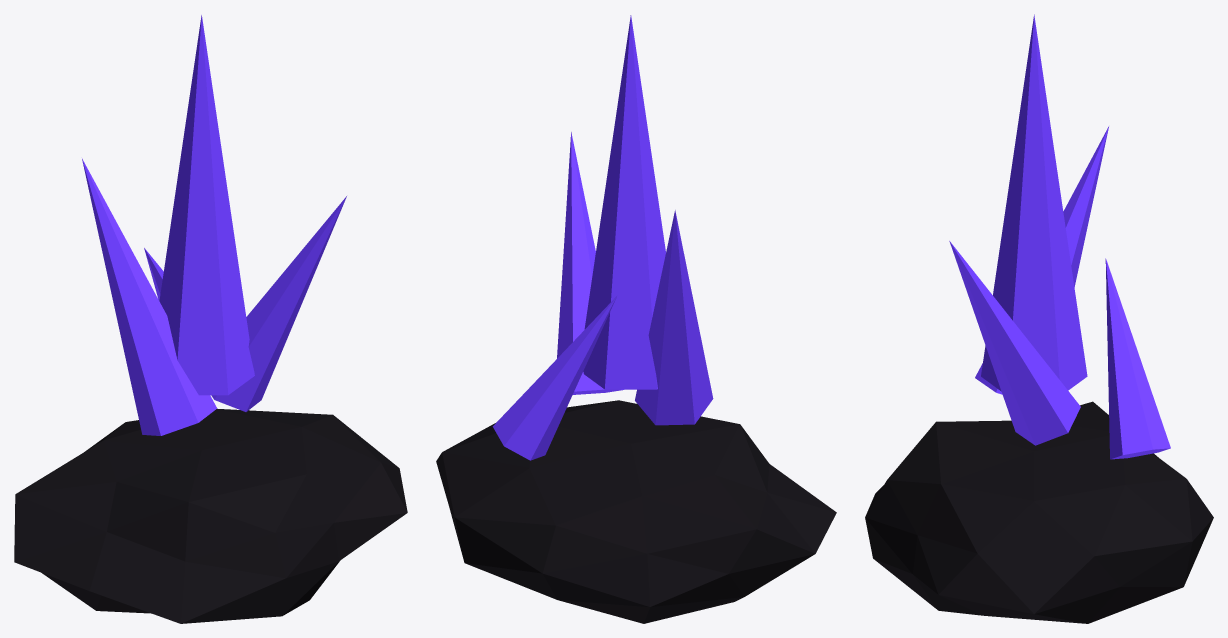
Rendered from crystal-cluster.glb.
The picture shows the model from 3 angles, left to right: view 1: azimuth 30°, elevation 25°; view 2: azimuth 150°, elevation 25°; view 3: azimuth 270°, elevation 25°; orthographic projection.
Visible parts, largest first — view 1: Base Rock, Crystal 1, Crystal 3, Crystal 2; view 2: Base Rock, Crystal 1, Crystal 3, Crystal 4, Crystal 2; view 3: Base Rock, Crystal 1, Crystal 2, Crystal 4, Crystal 3.
Part boxes in pixels (x1,y1,x2,y2): Base Rock: [14, 408, 407, 623]; Crystal 1: [159, 15, 254, 395]; Crystal 3: [82, 158, 217, 435]; Crystal 2: [211, 196, 346, 411]; Base Rock: [436, 400, 836, 623]; Crystal 1: [583, 15, 665, 389]; Crystal 3: [635, 210, 713, 425]; Crystal 4: [492, 295, 617, 460]; Crystal 2: [557, 132, 623, 394]; Base Rock: [865, 401, 1213, 623]; Crystal 1: [981, 14, 1087, 391]; Crystal 2: [949, 241, 1080, 445]; Crystal 4: [1105, 258, 1170, 459]; Crystal 3: [975, 126, 1108, 394].
Size of the model in its own units: 1 by 1.42 by 0.7851.
